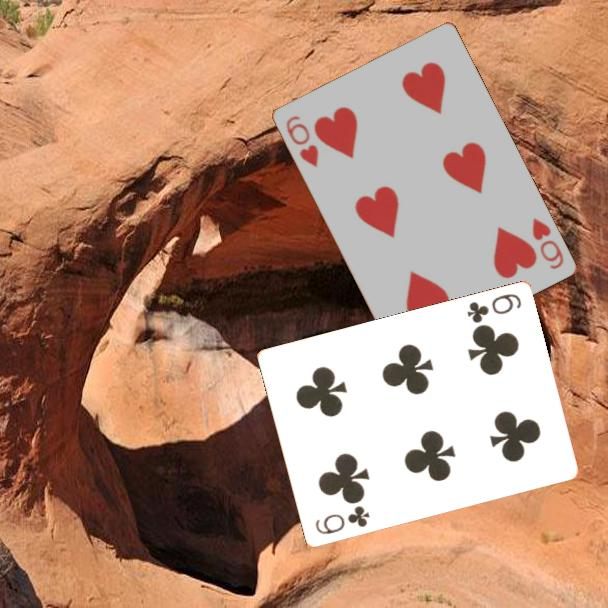c06: (311, 502, 372, 538), (463, 290, 524, 326)
h06: (282, 112, 321, 170), (528, 214, 566, 272)
